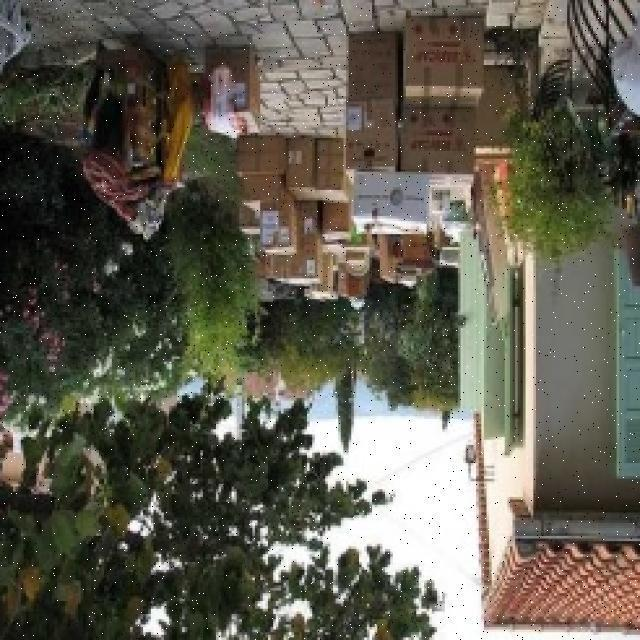box: (398, 20, 483, 101), (354, 172, 438, 248), (394, 108, 474, 182), (469, 75, 526, 156), (202, 44, 252, 130), (344, 98, 394, 172), (348, 36, 396, 100), (374, 228, 428, 278), (270, 242, 322, 288), (236, 170, 284, 210), (234, 140, 284, 176), (284, 138, 314, 198), (318, 136, 342, 204), (260, 208, 290, 255), (317, 202, 353, 236), (240, 206, 262, 236), (338, 276, 360, 294)
